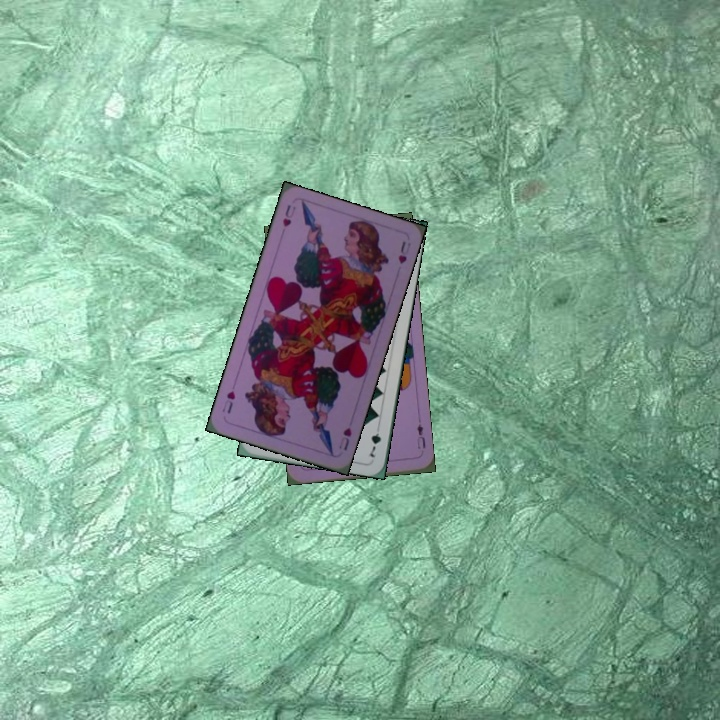EU: (413, 420, 428, 451)
G7: (365, 420, 383, 460)
HU: (334, 423, 354, 453), (278, 201, 298, 229)
